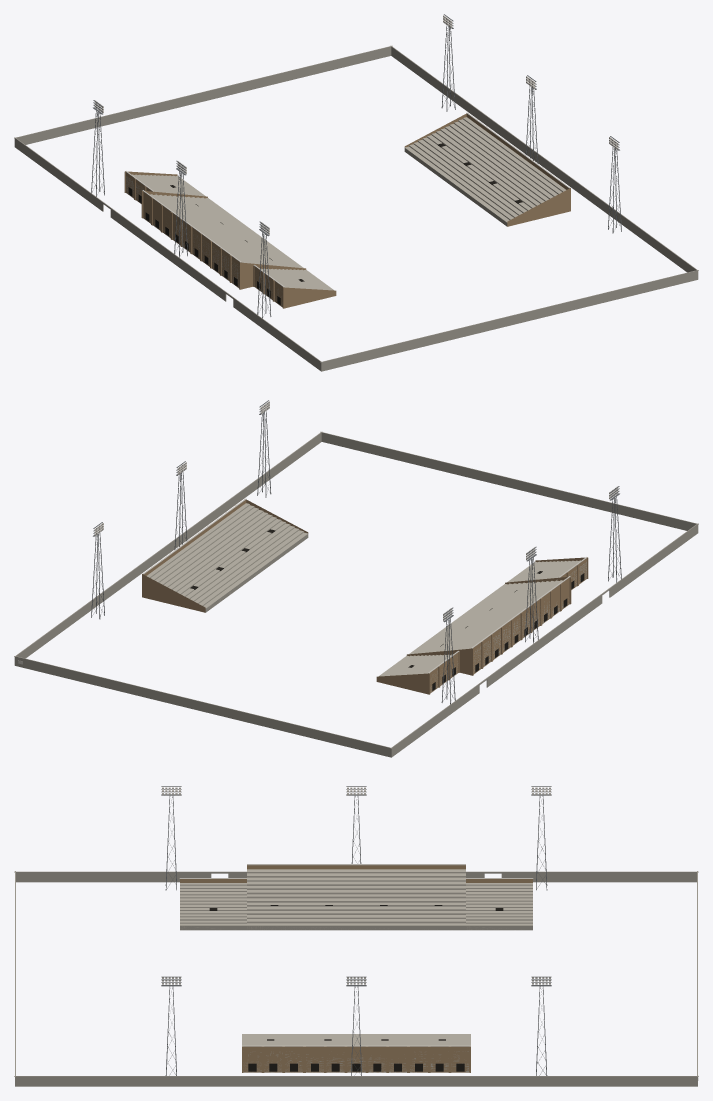
The model's file is quigley-stadium.glb.
The picture shows the model from 3 angles, top to bottom: view 1: azimuth 30°, elevation 25°; view 2: azimuth 150°, elevation 25°; view 3: azimuth 270°, elevation 25°; orthographic projection. The views are drawn at different scales.
Parts seen in each view (by area): view 1: quigley_conc, quigley_seat, quigley_brick, quigley_steel, quigley_stone, quigley_shadow; view 2: quigley_conc, quigley_seat, quigley_brick, quigley_steel, quigley_stone, quigley_shadow; view 3: quigley_seat, quigley_conc, quigley_brick, quigley_steel, quigley_stone, quigley_shadow.
Part boxes in pixels (<box>): quigley_conc: <box>14,45,698,371</box>; quigley_seat: <box>126,117,565,306</box>; quigley_brick: <box>124,113,570,308</box>; quigley_steel: <box>91,14,621,318</box>; quigley_stone: <box>94,15,618,287</box>; quigley_shadow: <box>128,143,522,304</box>; quigley_conc: <box>14,431,698,757</box>; quigley_seat: <box>147,503,586,692</box>; quigley_brick: <box>142,499,588,694</box>; quigley_steel: <box>91,400,621,704</box>; quigley_stone: <box>18,401,618,673</box>; quigley_shadow: <box>190,529,584,690</box>; quigley_seat: <box>180,869,532,1072</box>; quigley_conc: <box>14,871,698,1086</box>; quigley_brick: <box>180,865,532,1072</box>; quigley_steel: <box>161,786,551,1075</box>; quigley_stone: <box>162,787,698,1080</box>; quigley_shadow: <box>209,905,503,1071</box>.
Size of the model in its own units: 145 by 33.7 by 204.
